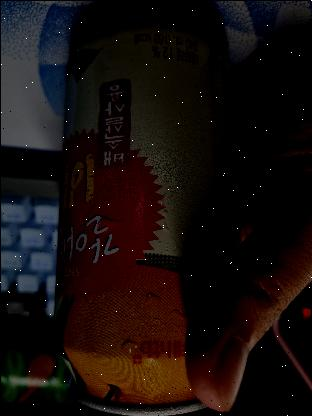Can: (42, 20, 247, 414)
